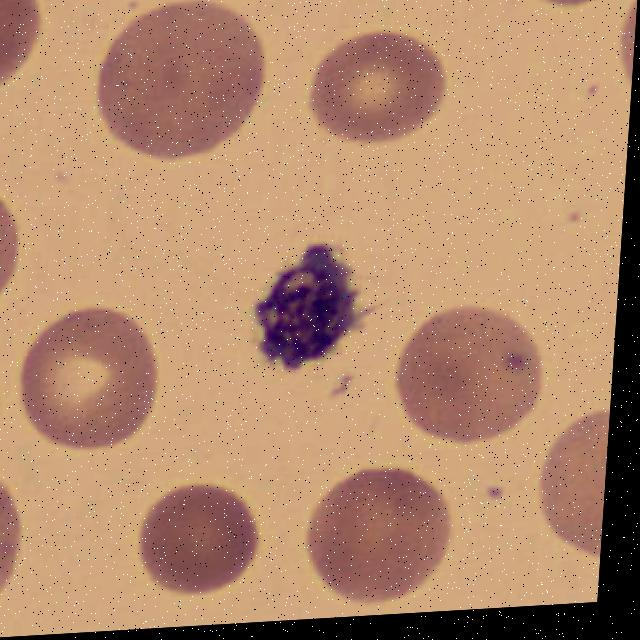platelets: (234, 241, 363, 390)
rbc: (72, 0, 275, 169), (377, 297, 543, 460), (11, 300, 178, 457), (290, 458, 464, 601), (291, 16, 452, 154), (99, 484, 266, 617), (521, 401, 611, 572), (0, 0, 60, 102), (0, 176, 33, 328), (600, 0, 639, 115), (0, 471, 28, 624), (494, 0, 640, 17), (0, 344, 9, 452)
